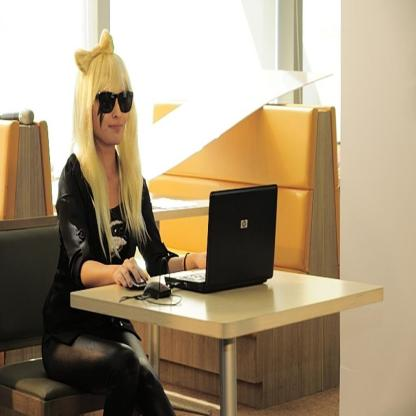board: (165, 184, 278, 294)
